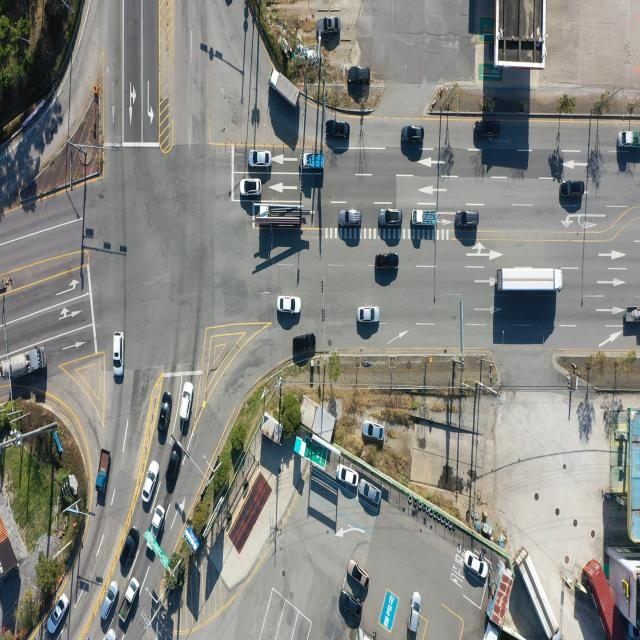car: (47, 594, 68, 636), (339, 589, 364, 621), (100, 579, 119, 620), (121, 528, 140, 568), (142, 461, 159, 503), (167, 447, 182, 494), (349, 561, 370, 590), (464, 552, 488, 577), (112, 332, 124, 379), (358, 480, 381, 504), (292, 333, 317, 355), (409, 591, 422, 633), (337, 464, 360, 486), (379, 208, 403, 228), (476, 121, 501, 140), (180, 382, 192, 421), (158, 399, 170, 437), (328, 119, 351, 138), (277, 295, 301, 313), (376, 252, 400, 270), (402, 126, 426, 144), (561, 180, 586, 197), (362, 421, 384, 440), (340, 209, 363, 227), (456, 210, 479, 228), (357, 306, 379, 324), (240, 178, 262, 196), (349, 66, 371, 84), (251, 149, 273, 166), (322, 17, 340, 34), (103, 627, 117, 640)
medium_truck: (518, 544, 562, 637), (501, 268, 566, 294), (0, 346, 44, 381), (269, 61, 300, 109), (254, 204, 307, 228)
small_truck: (122, 575, 141, 620), (148, 506, 164, 553), (96, 445, 111, 493), (412, 209, 437, 227), (302, 155, 326, 171), (619, 131, 640, 149), (625, 307, 640, 324)
